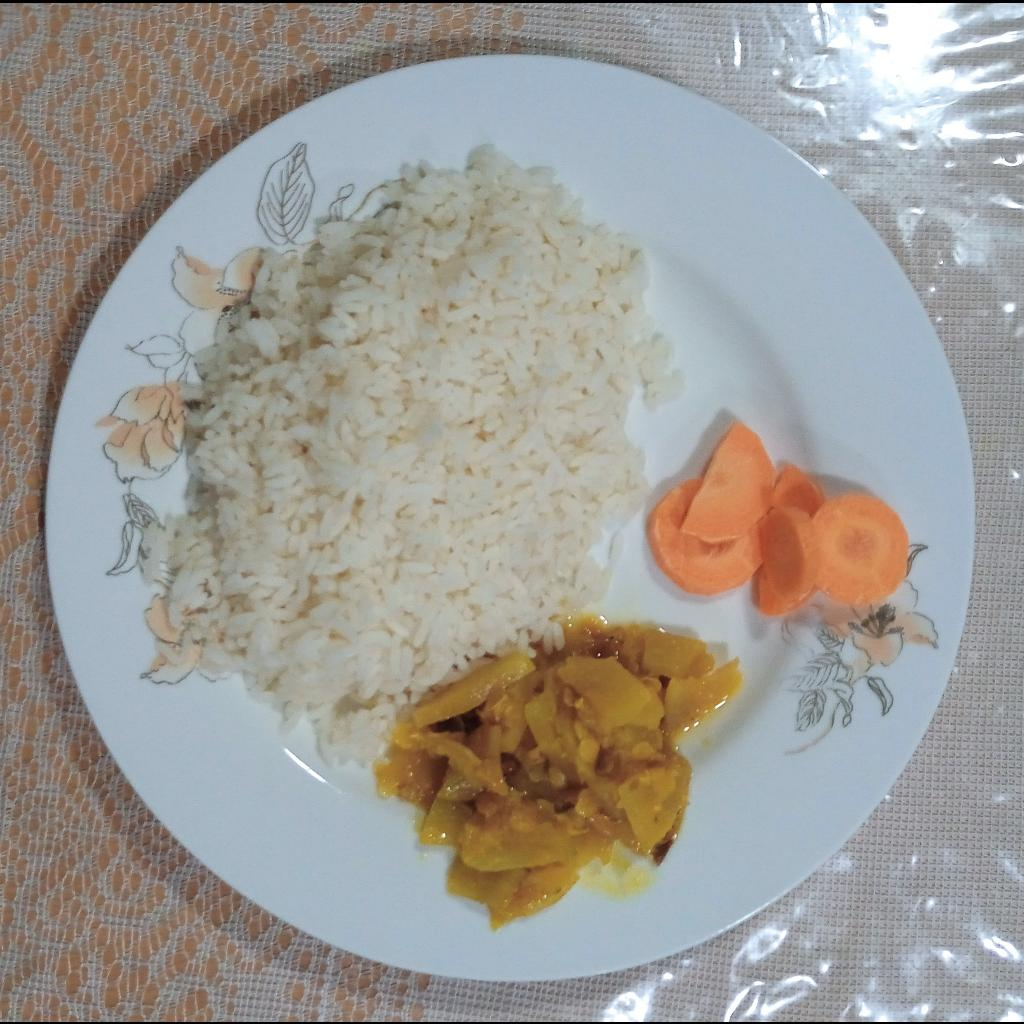carrot: (646, 418, 912, 614)
lau: (378, 622, 746, 929)
rice: (138, 143, 686, 764)
